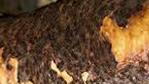rust: (2, 10, 149, 80)
